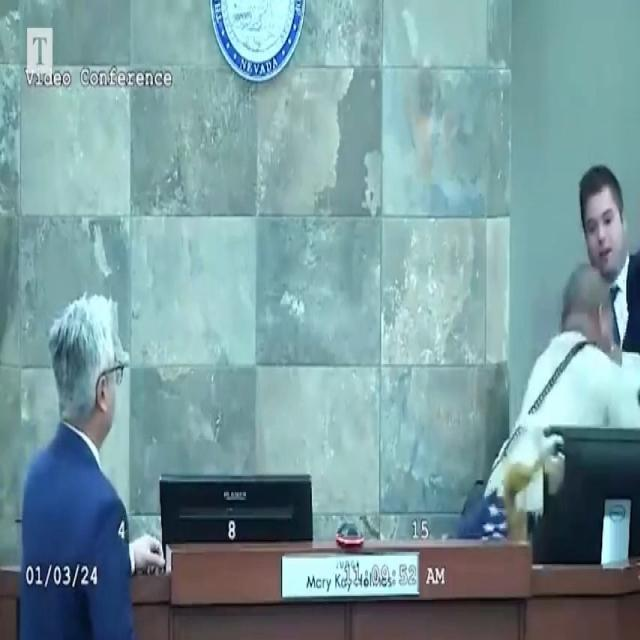fight: (482, 159, 640, 542)
non-fight: (19, 287, 140, 640)
